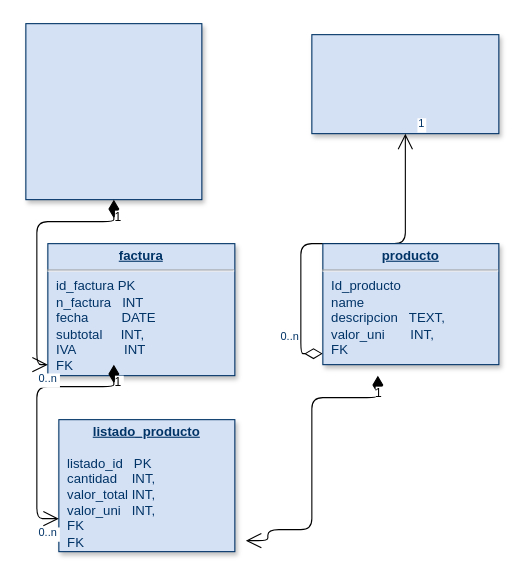
Some shapes in this 525 by 579 pixel diagram are drawn without their labels. The shapes that lost their labels are listed below. From the top down, each one's centre as x and y in pixels, then its label:
the point at 405,85: categoria id_categoria PK, name VARCHAR(80), description TEXT,
the point at 114,112: cliente cliente_id PK name VARCHAR(80), rut VARCHAR(10), direccion VARCHAR(10)
